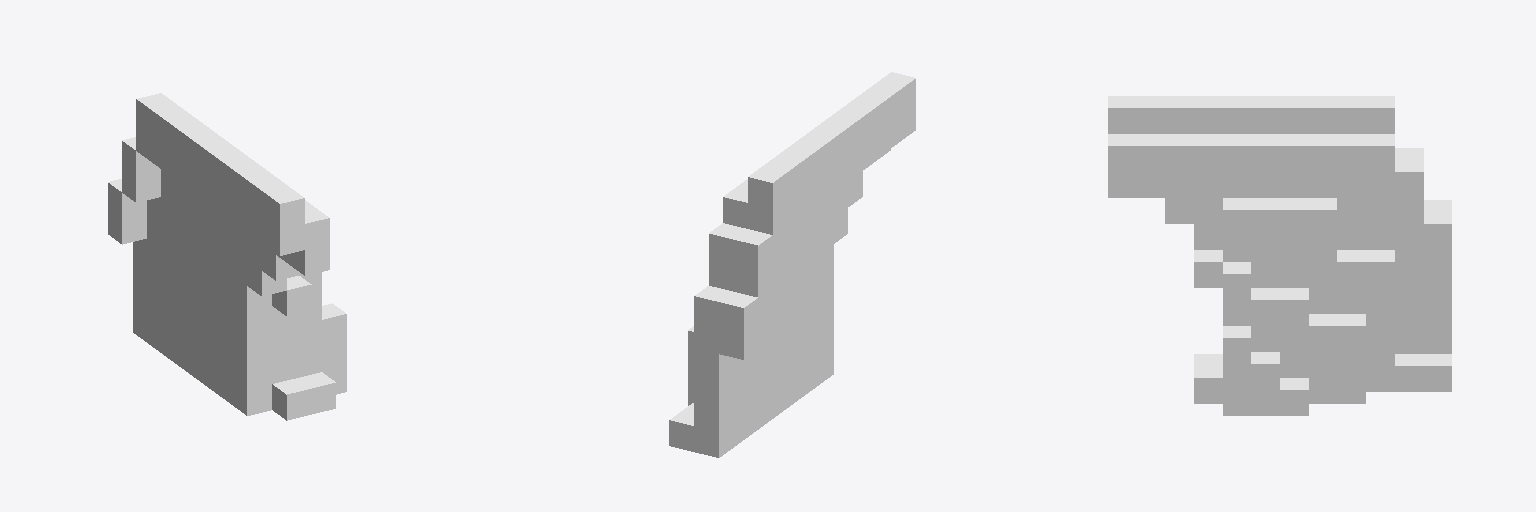
File: map1.63.vox.obj
3 renders of one model, left to right at view 1: azimuth 30°, elevation 25°; view 2: azimuth 150°, elevation 25°; view 3: azimuth 270°, elevation 25°, orthographic.
Visible parts, largest first — view 1: object 1; view 2: object 1; view 3: object 1.
Boxes of the visible parts, <box> form: object 1: <box>108,93,346,420</box>; object 1: <box>669,72,915,457</box>; object 1: <box>1108,96,1451,415</box>.
Size of the model in its own units: 10 by 20 by 24.